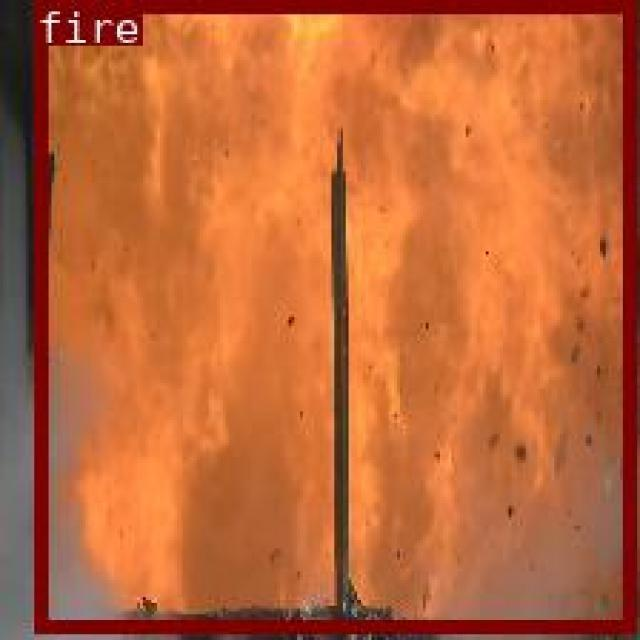fire: (32, 0, 635, 629)
